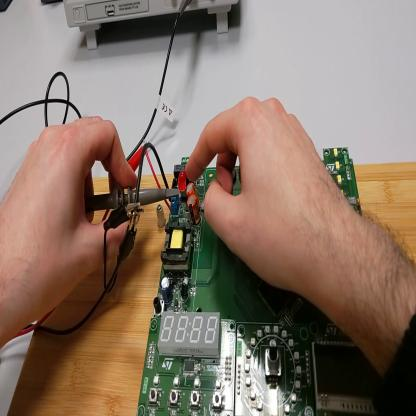hand: (186, 97, 342, 294), (2, 114, 140, 333)
low voltage board: (135, 143, 378, 416)
oscilloscope: (65, 2, 238, 50)
oscilloscope probe tip: (90, 189, 181, 212)
socket: (41, 2, 64, 10), (1, 2, 14, 14)
working area: (9, 159, 416, 416)
